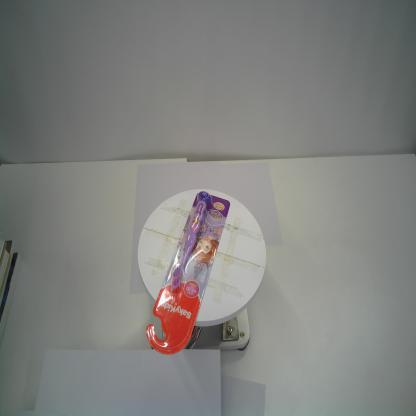Personal Hygiene: (145, 190, 230, 356)
